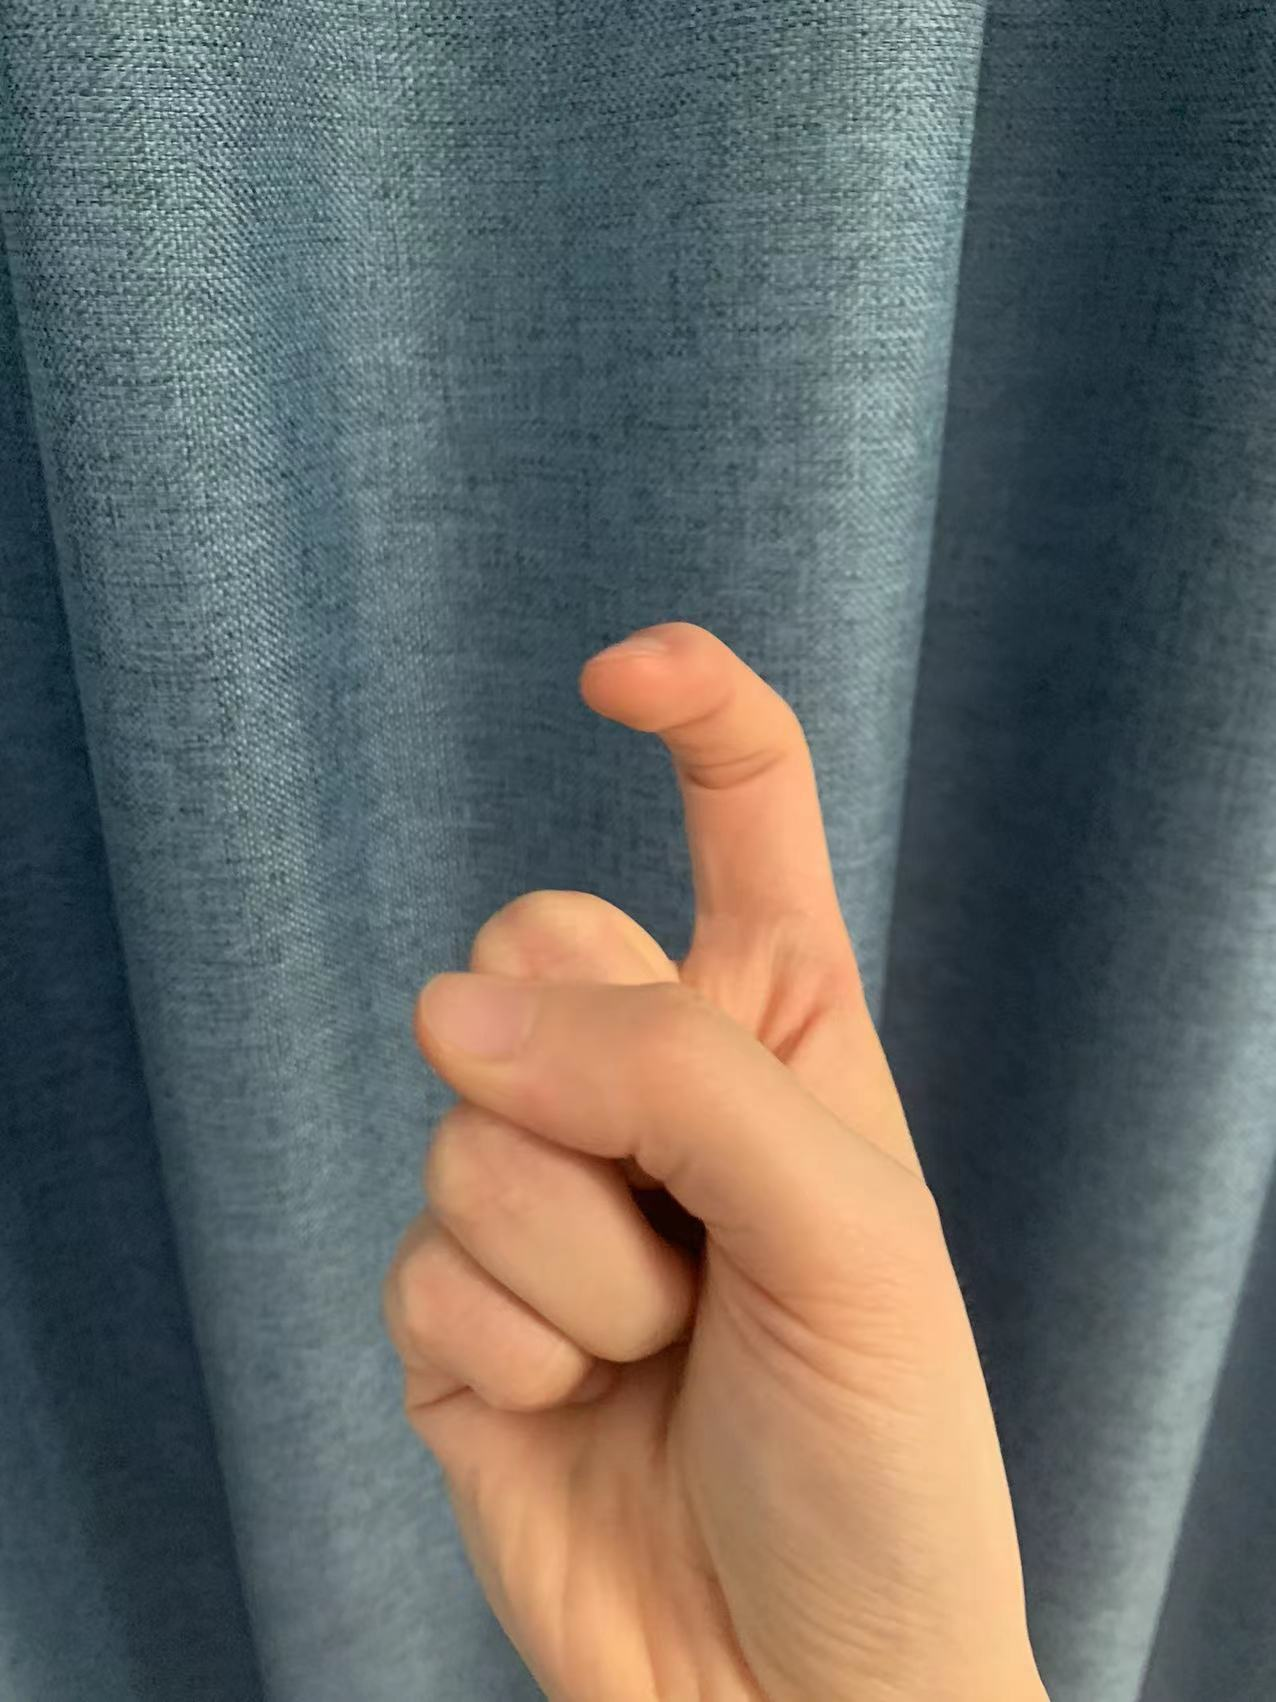anticlockwise: (398, 608, 962, 1667)
